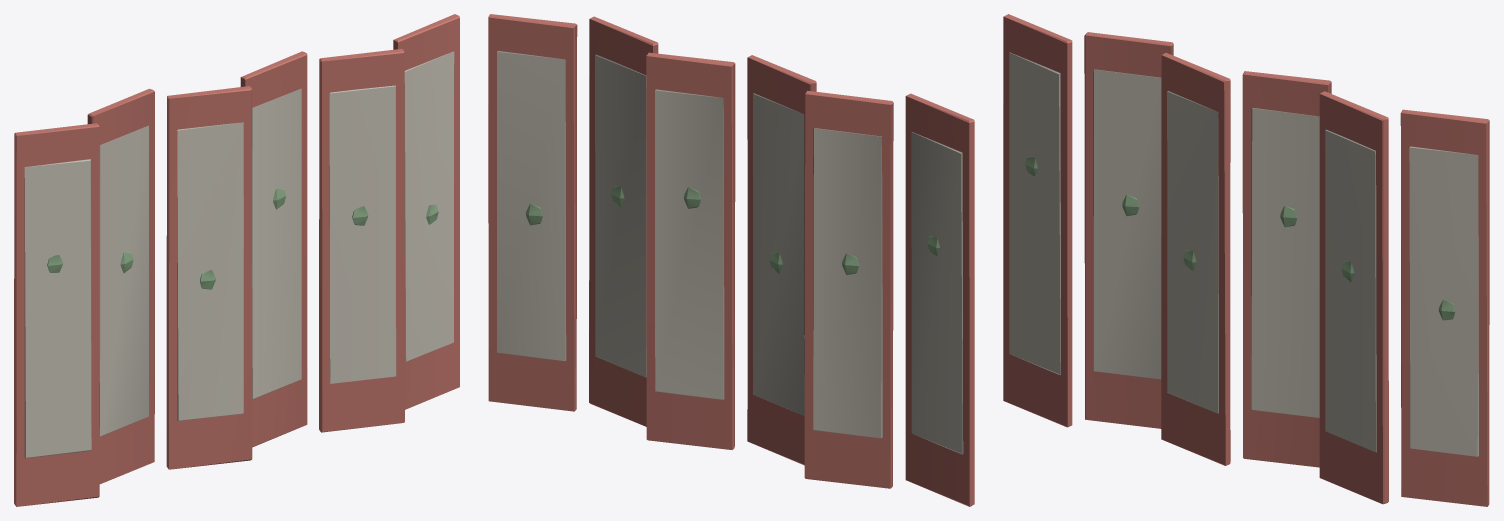
File: furn_folding_screen__red_low.glb
3 renders of one model, left to right at view 1: azimuth 30°, elevation 25°; view 2: azimuth 150°, elevation 25°; view 3: azimuth 330°, elevation 25°, orthographic. The views are drawn at different scales.
Bounding box in the file's own units: 1.79 × 1.4 × 0.1803.
